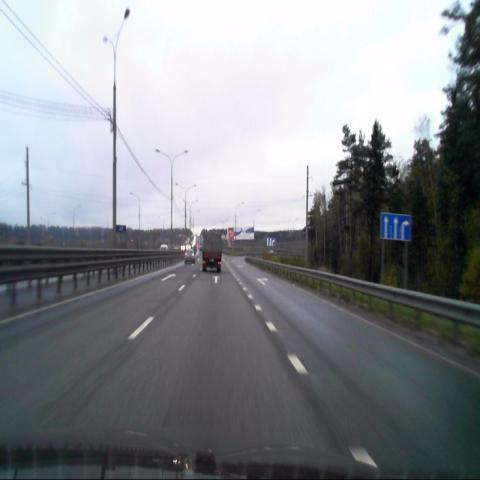5_15_1: (379, 212, 411, 240)
